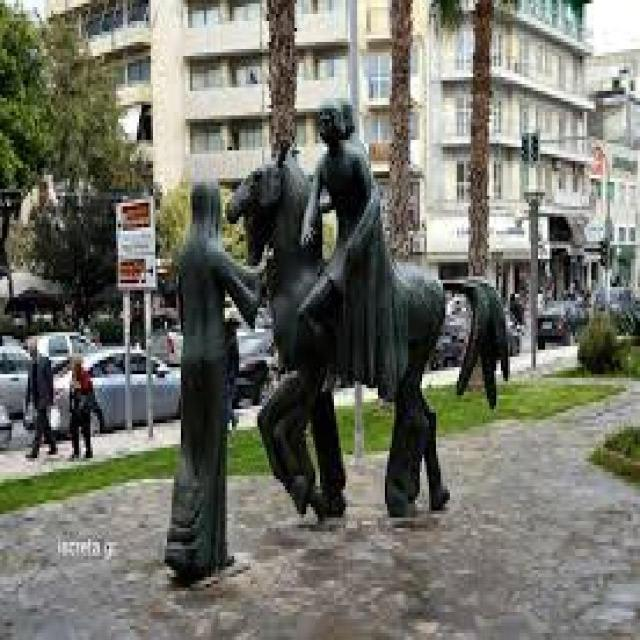Aretousa: (165, 98, 513, 582)
